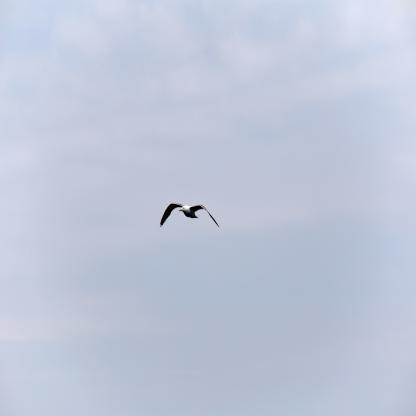bird: (159, 203, 220, 227)
